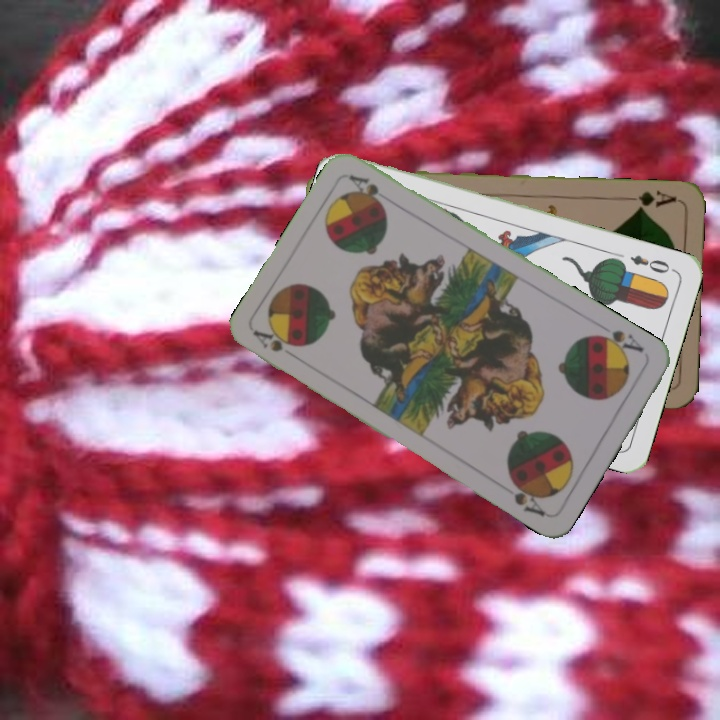EO: (626, 250, 677, 276)
GA: (620, 186, 679, 213)
SA: (249, 326, 304, 364), (590, 326, 647, 360)
